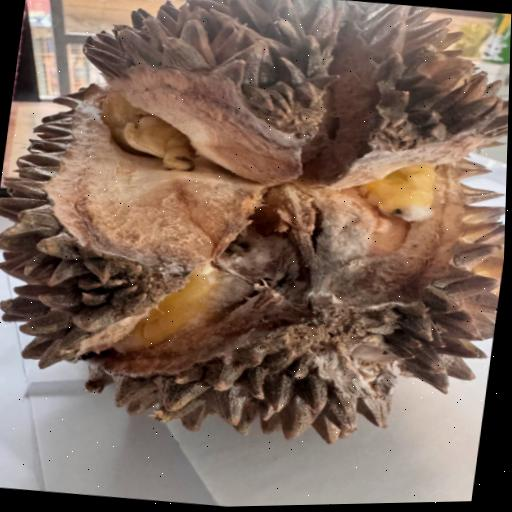mold: (156, 169, 439, 362)
rot: (0, 0, 512, 512)
